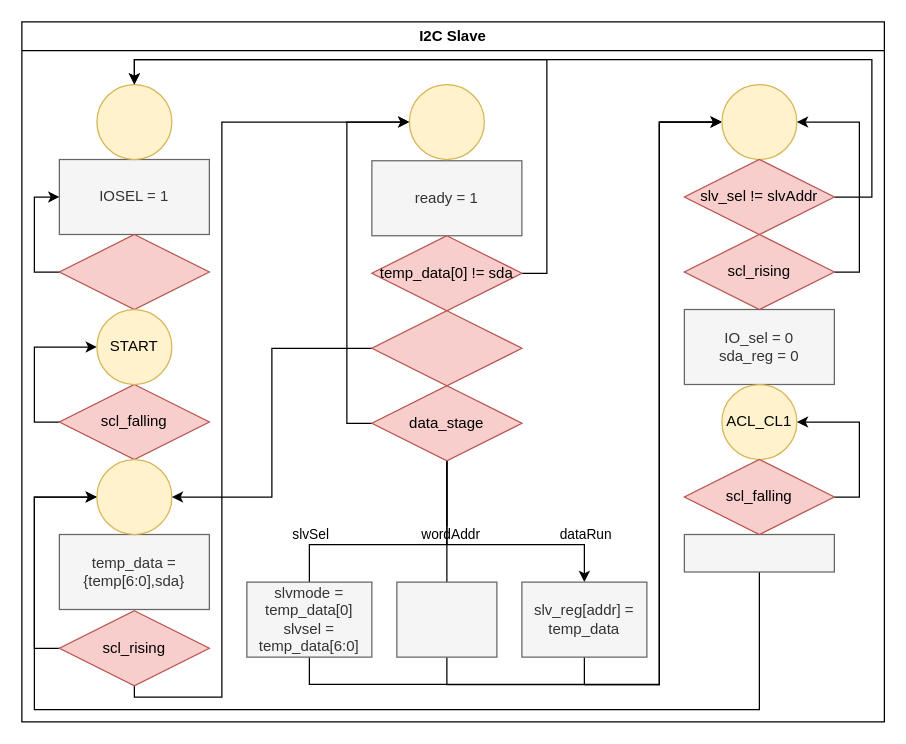
Some shapes in this 906 by 744 pixel diagram are drawn without their labels. Each missing label, with the centre of its shape:
"!sda" goes at (x=133, y=271).
"ACL_CL0" goes at (x=759, y=121).
"addr = temp_data" goes at (x=446, y=619).
"bit_count == 7" goes at (x=446, y=348).
"DATA_CL0" goes at (x=134, y=496).
"DATA_CL1" goes at (x=446, y=121).
"IDLE" goes at (x=134, y=121).
"IO_sel = 1" goes at (x=758, y=552).
